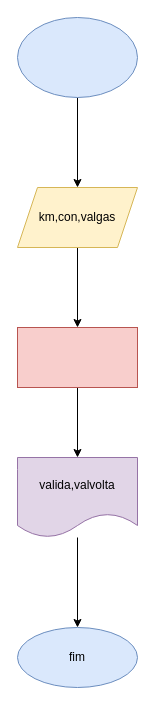
The diagram is 155 pixels wide and 705 high, and some of its shapes have lost their labels. Each missing label, with the centre of its shape:
inicio: (x=77, y=57)
valida<-(km/con) *valgas valvolta<-valida*2: (x=77, y=357)
